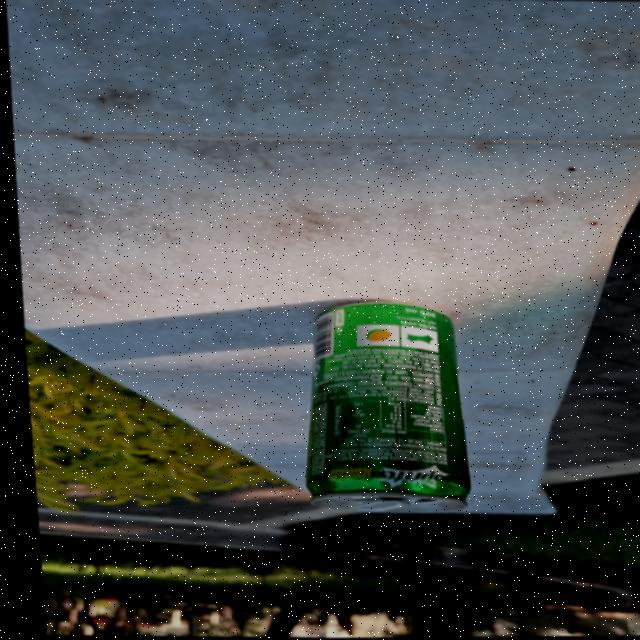Sprite: (299, 303, 469, 511)
